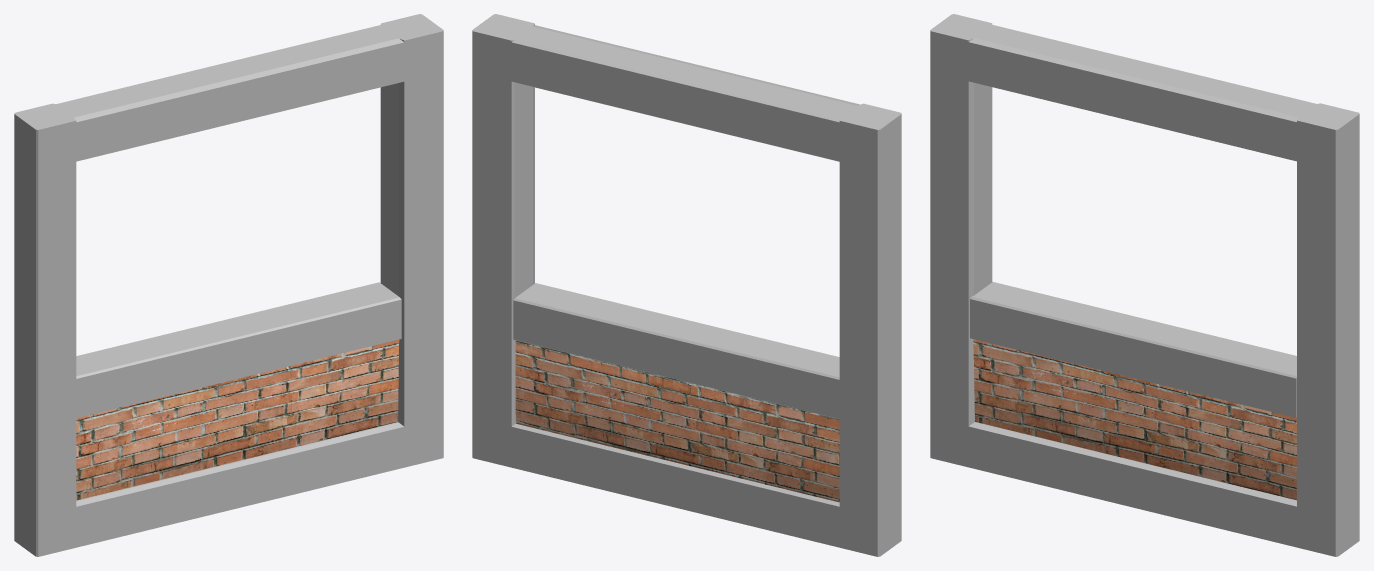
File: House Half Brick Big Window.fbx
3 views of the same model, side by side, from view 1: azimuth 30°, elevation 25°; view 2: azimuth 150°, elevation 25°; view 3: azimuth 330°, elevation 25° (orthographic).
Parts seen in each view (by area): view 1: House Half Timber Large Window; view 2: House Half Timber Large Window; view 3: House Half Timber Large Window.
Boxes of the visible parts, x1,y1,x2,y2 form: House Half Timber Large Window: [14, 14, 443, 556]; House Half Timber Large Window: [472, 14, 901, 556]; House Half Timber Large Window: [930, 14, 1359, 556].
Bounding box in the file's own units: 250 × 250 × 25.
